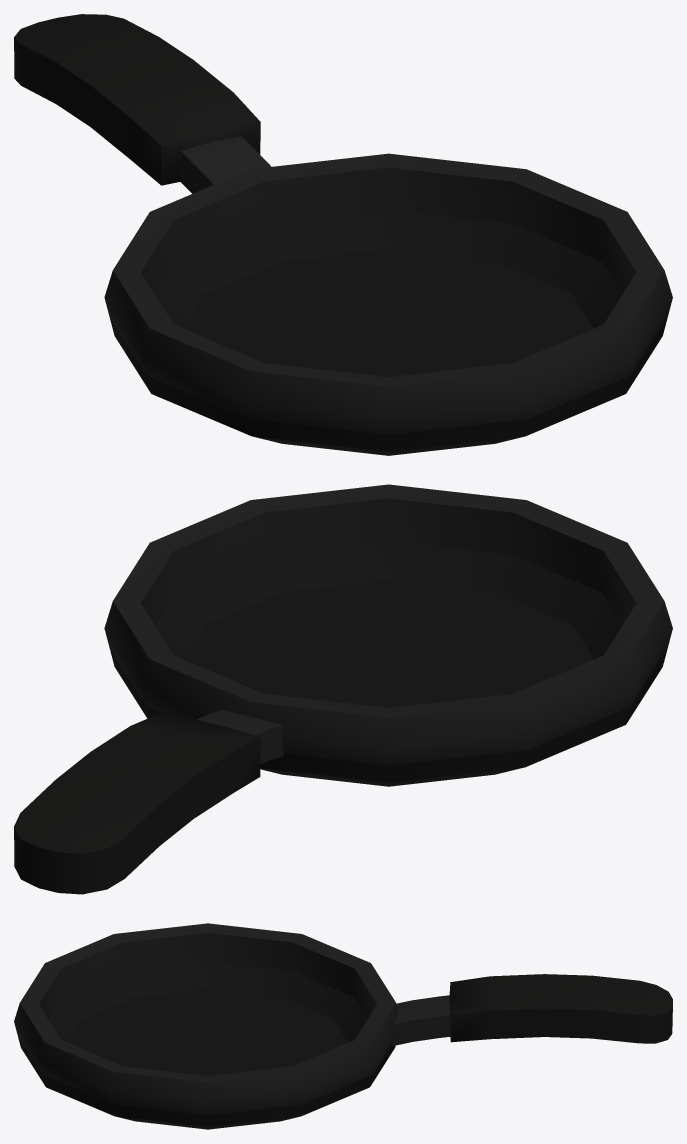
File: Frying_Pan_01_Burnt.fbx
The picture shows the model from 3 angles, top to bottom: view 1: azimuth 30°, elevation 25°; view 2: azimuth 150°, elevation 25°; view 3: azimuth 270°, elevation 25°; orthographic projection. The views are drawn at different scales.
Parts seen in each view (by area): view 1: Frying_Pan_01_Burnt; view 2: Frying_Pan_01_Burnt; view 3: Frying_Pan_01_Burnt.
Part boxes in pixels (<box>): Frying_Pan_01_Burnt: <box>14,14,672,455</box>; Frying_Pan_01_Burnt: <box>14,484,672,894</box>; Frying_Pan_01_Burnt: <box>14,923,672,1129</box>.
Size of the model in its own units: 82.58 by 18.47 by 140.
